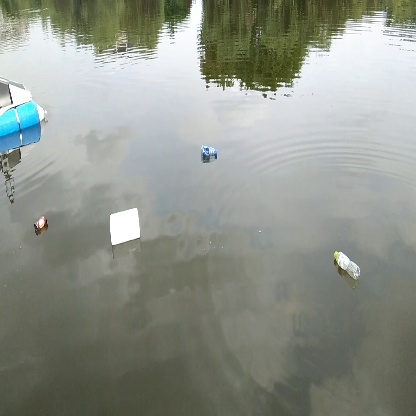bottle: (332, 249, 366, 283), (200, 144, 225, 161)
plastic-garbage: (105, 206, 146, 248)
